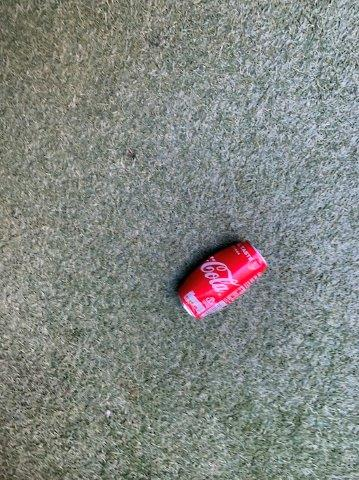kaleng: (179, 242, 266, 316)
